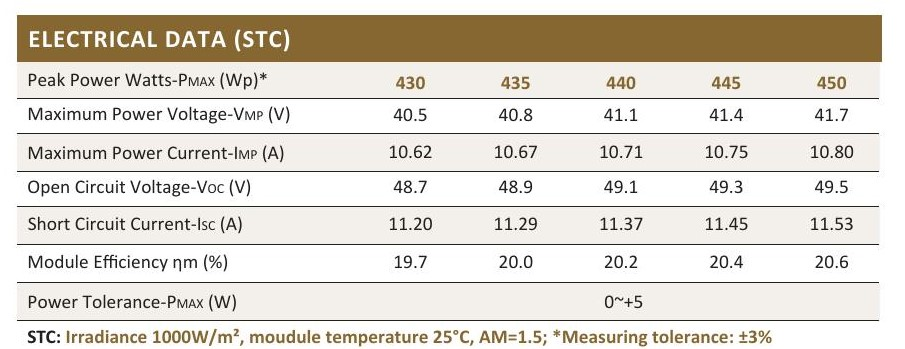table: (7, 49, 893, 329)
table column: (582, 61, 680, 324), (472, 60, 566, 325), (365, 59, 452, 324), (787, 62, 871, 325), (692, 61, 771, 326)
table row: (24, 60, 328, 324), (17, 137, 881, 169), (15, 286, 885, 317), (15, 248, 885, 278), (16, 210, 883, 240), (18, 102, 881, 132), (18, 65, 879, 95), (16, 176, 882, 203)
table spanning cell: (355, 290, 876, 319)
